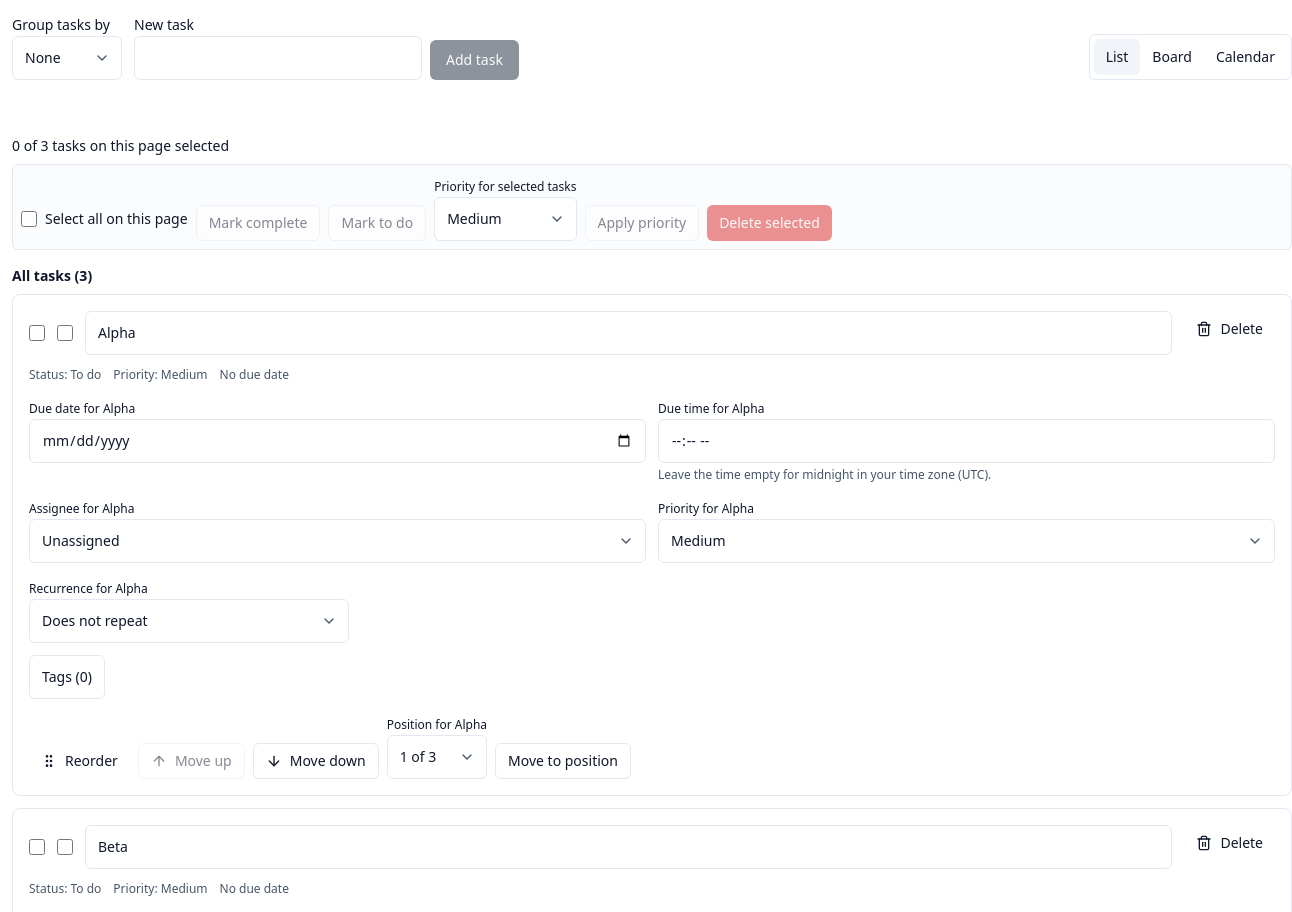
Test: task reordering › disables reordering while grouped and explains why
The image size is (1292, 912).
Select "Status" in the dropdown labelled "Group tasks by": (67, 58) x1=12 y1=36 x2=122 y2=80
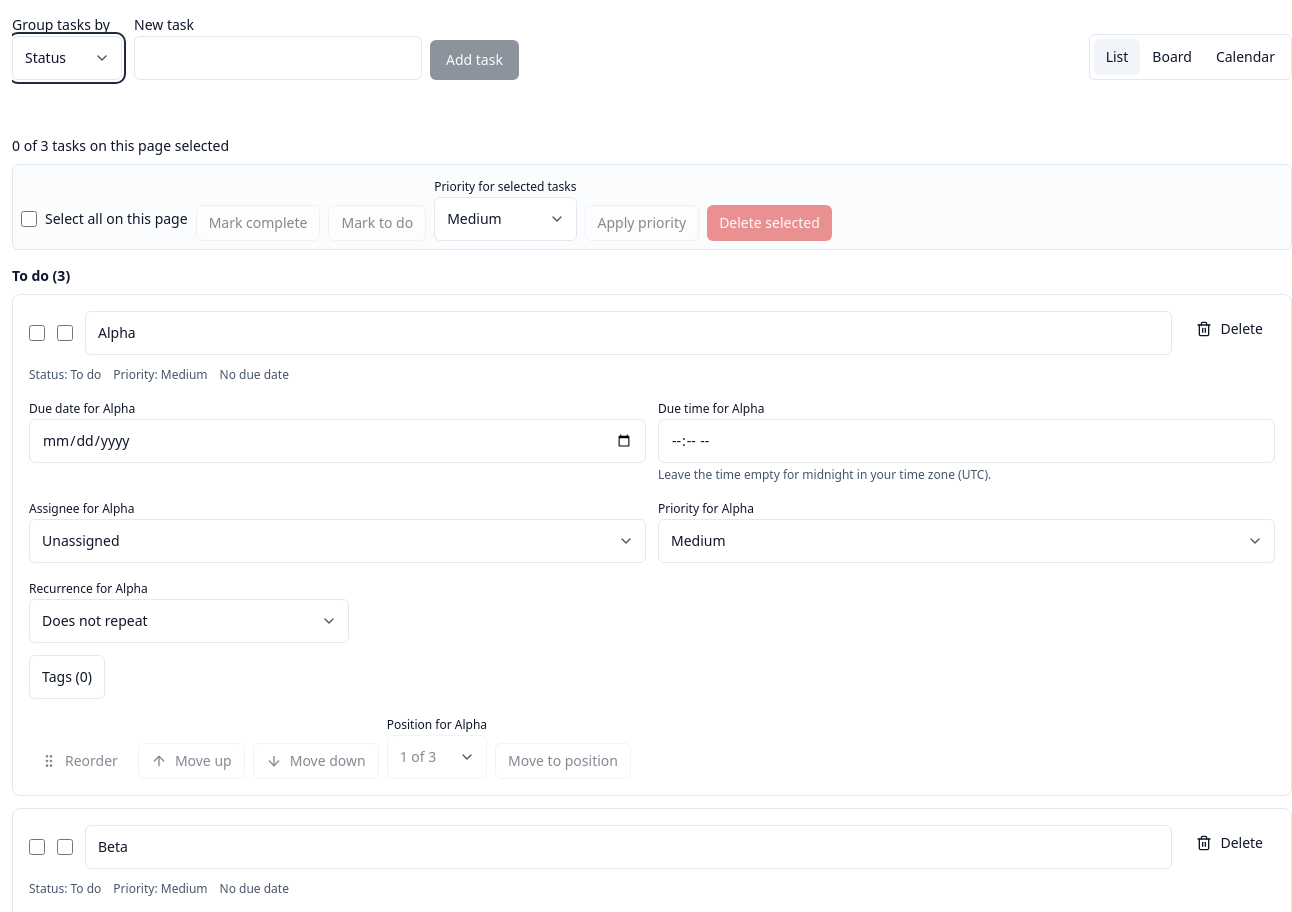
Check: the button with aria-label "Reorder Alpha" is disabled, box x1=29 y1=743 x2=130 y2=779
Check: the button named "Move down Alpha" is disabled, box x1=253 y1=743 x2=379 y2=779
Check: the dropdown labelled "Position for Alpha" is disabled, box x1=387 y1=735 x2=487 y2=779
